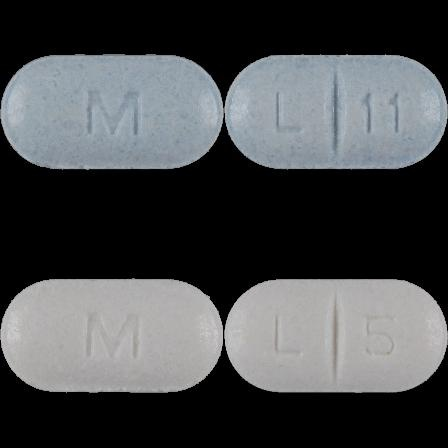55289-084: (0, 0, 224, 224)
